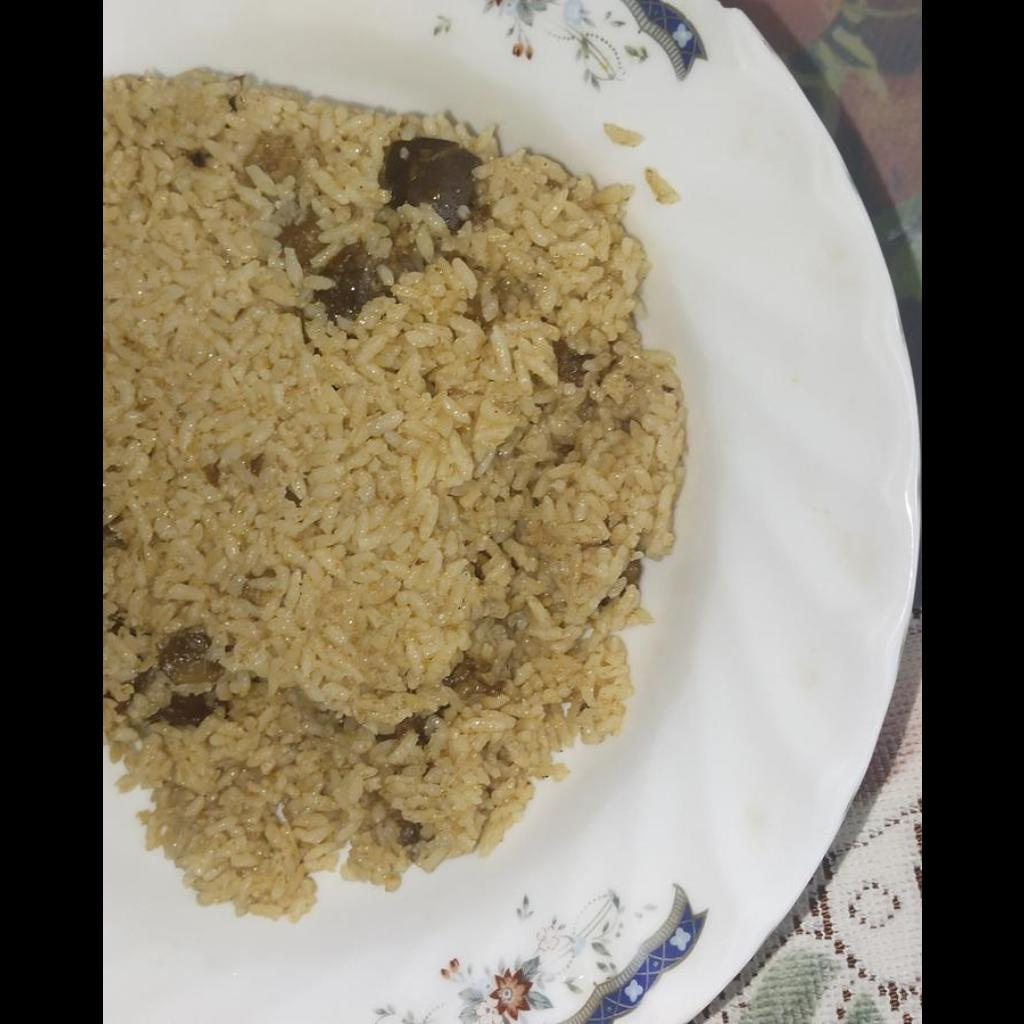biriyani: (102, 66, 695, 919)
